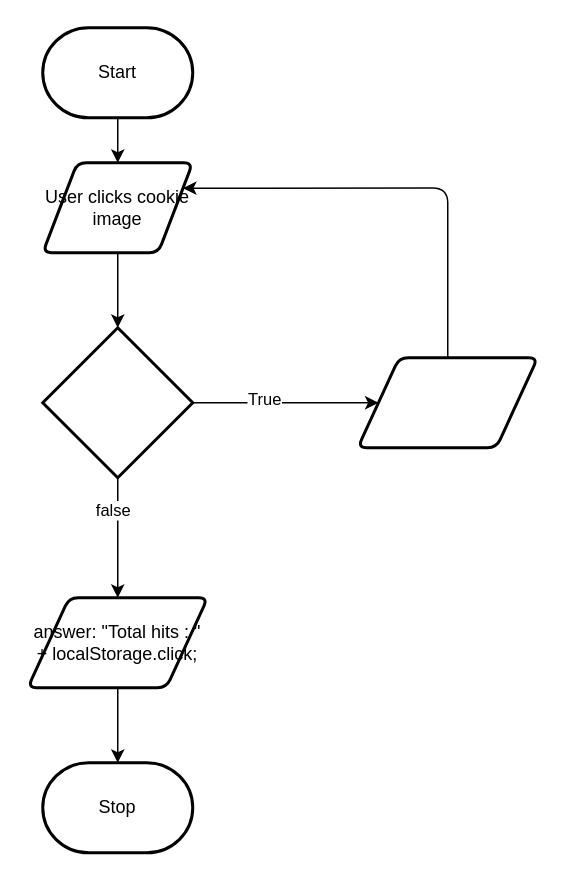
Image size: 581x879. Some labels were removed from this diagram. The shapes that lost their labels are listed below. From the top down, each one's centre as x and y in pixels, then its label:
At (117,402): "if (localStorage.click)".
At (447,402): "localStorage.click = Number(localStorage.click) +1;".
